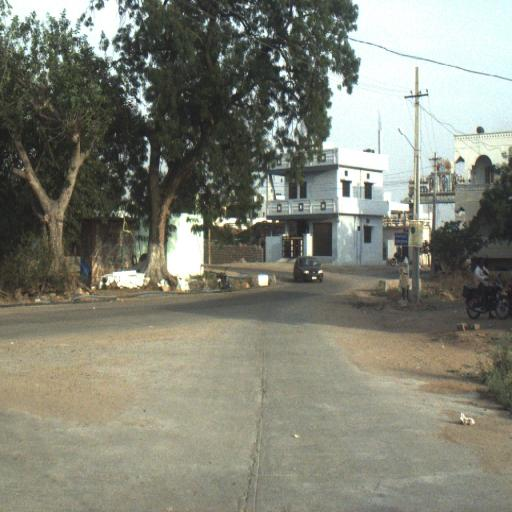street_light_0: (398, 127, 420, 162)
